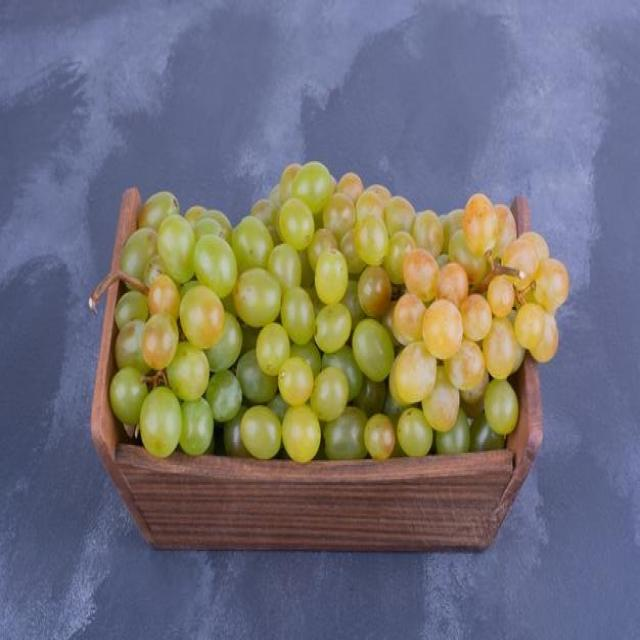grape: (110, 157, 570, 468)
